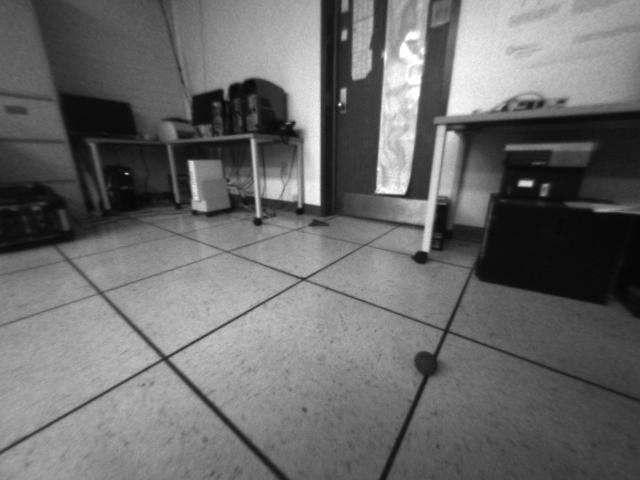dogtoy: (408, 346, 449, 383)
